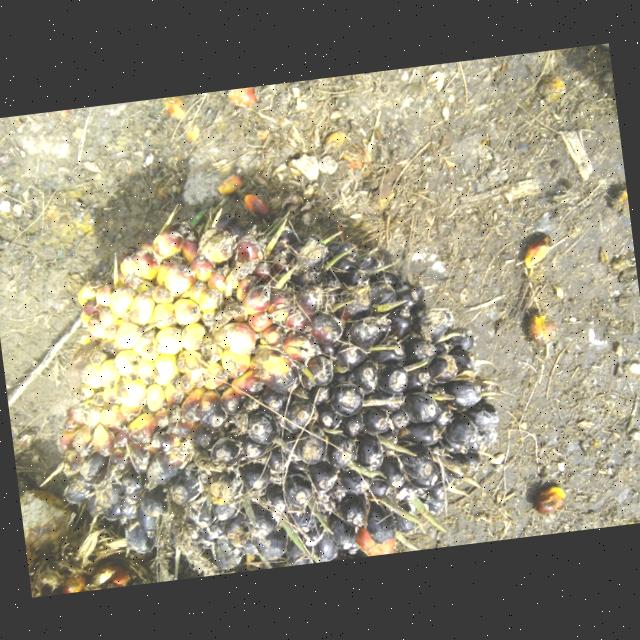Unripe: (57, 222, 501, 567)
